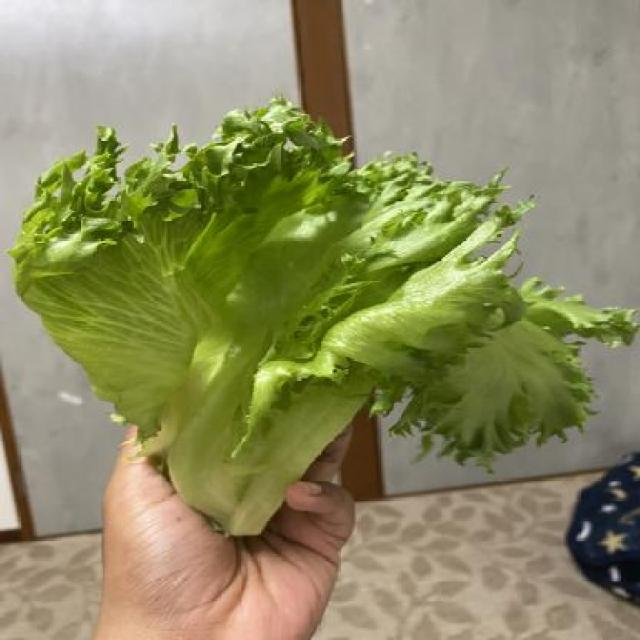lettuce: (14, 95, 640, 539)
